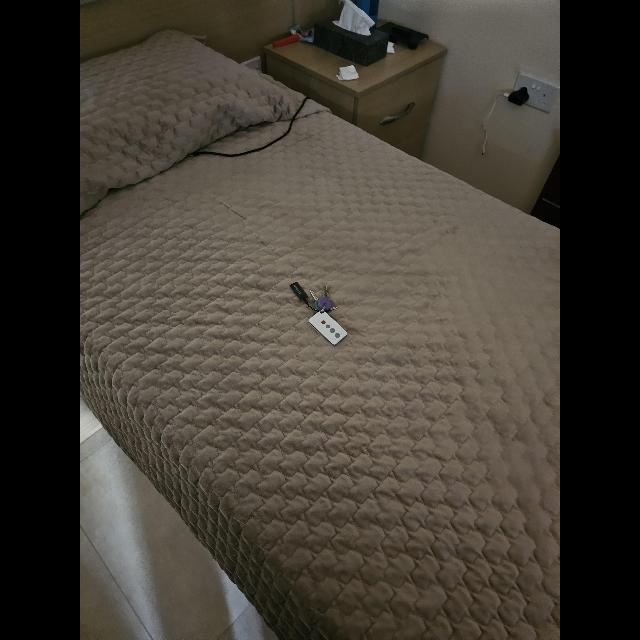Keys: (288, 281, 346, 345)
